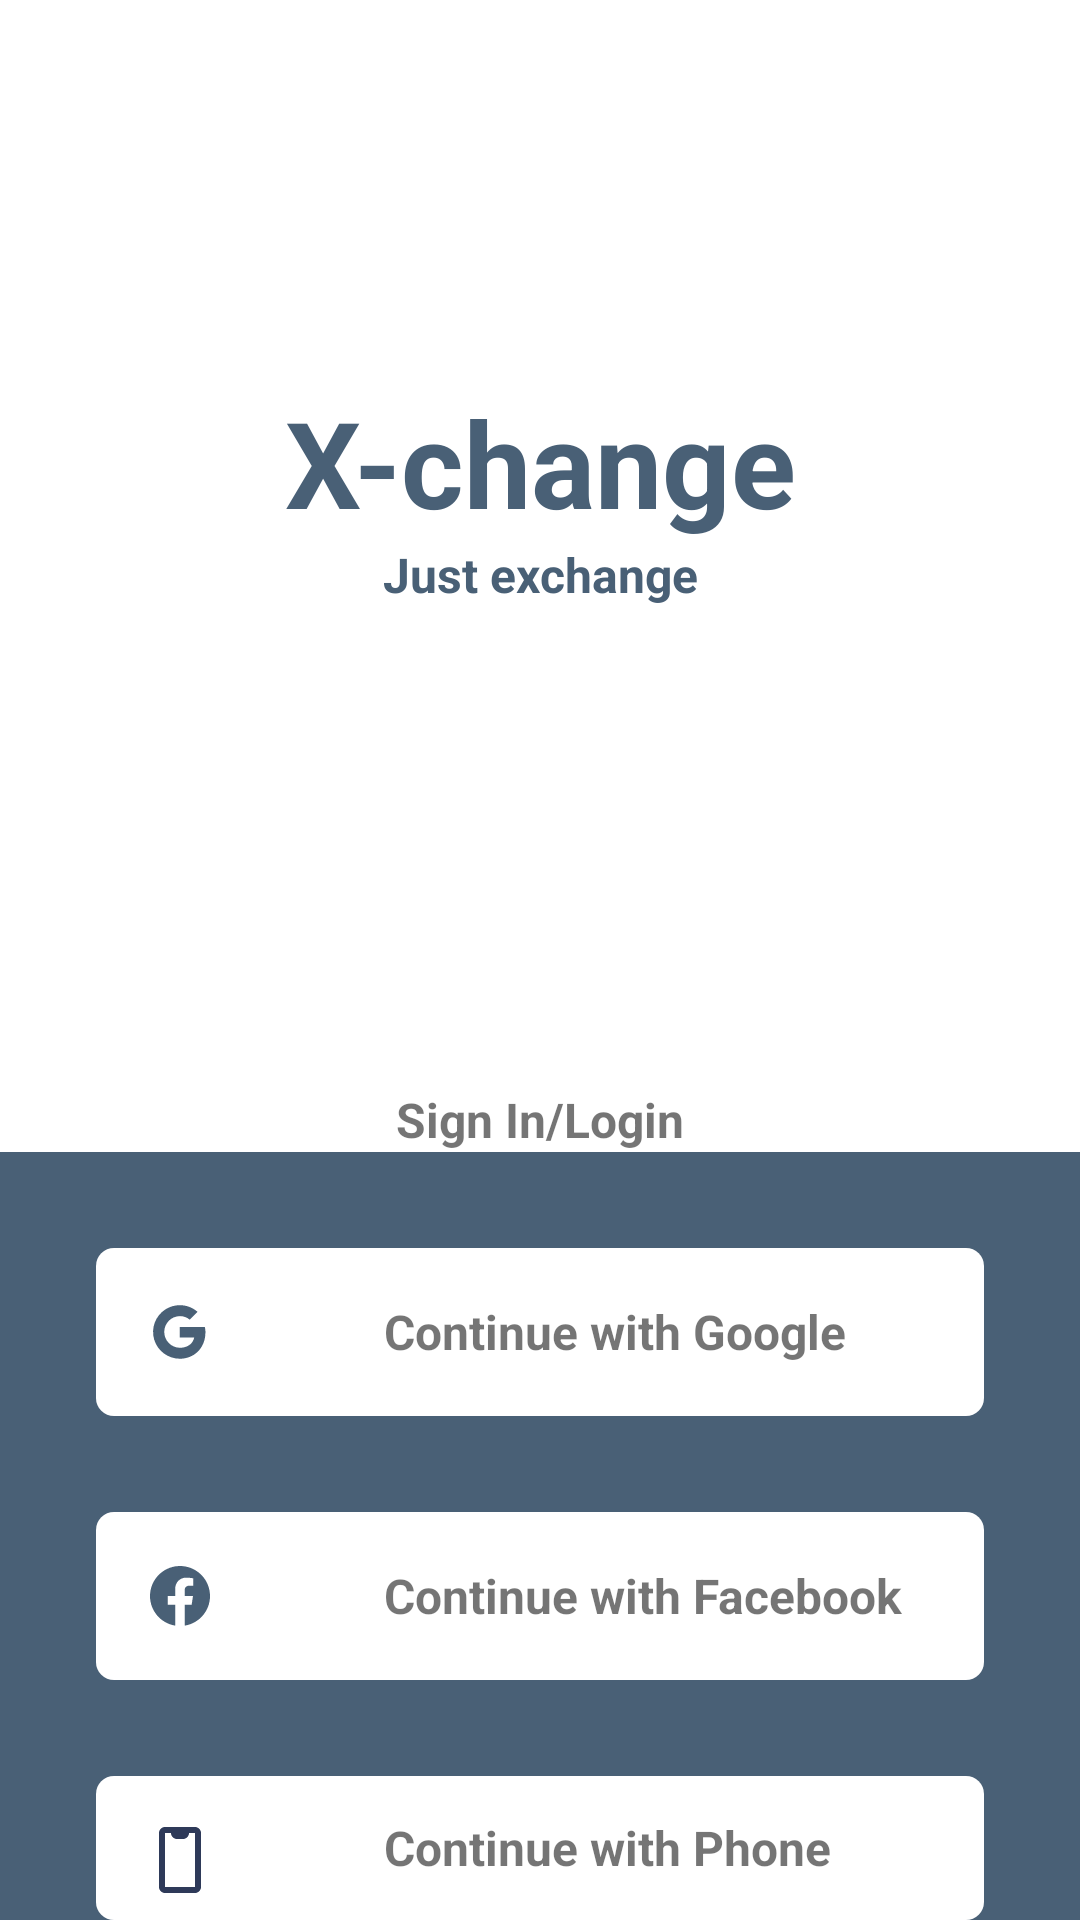

Where icons sit on this 1080px x 1920px app screen, as (x1, y1, x2, y2):
mobile: (159, 1827, 201, 1893)
